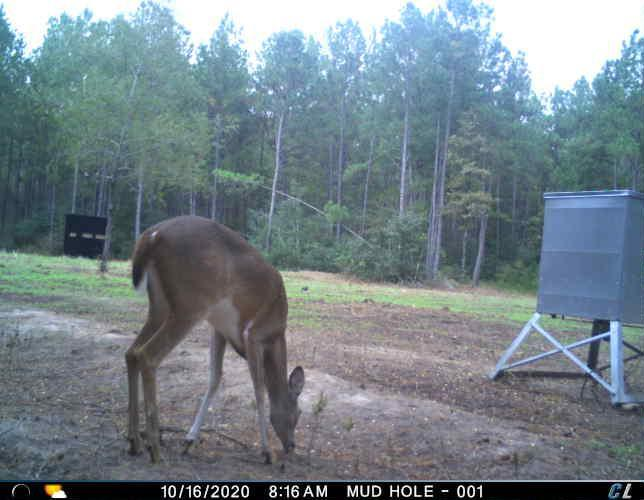Deer: (119, 210, 309, 469)
